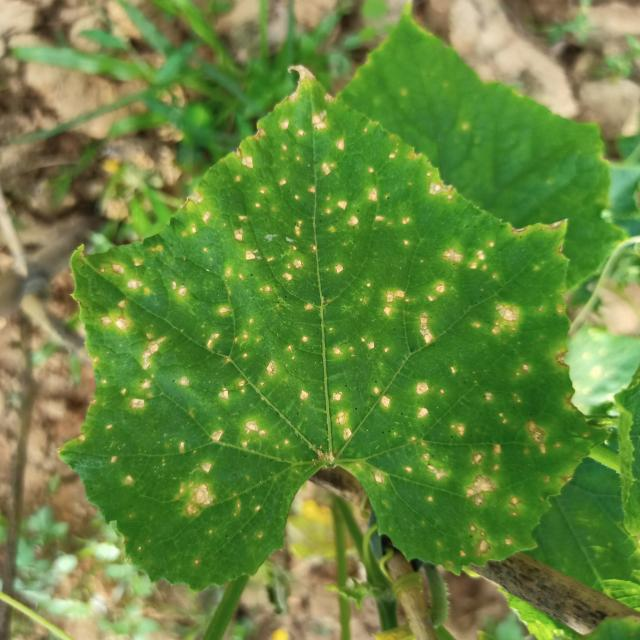disease_cucumber: (100, 111, 523, 353), (72, 290, 340, 564), (335, 288, 575, 558)
